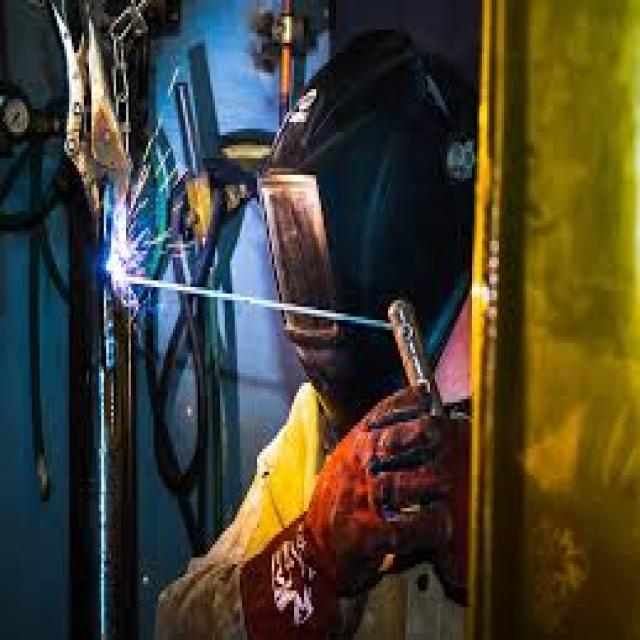welding: (108, 244, 128, 282)
